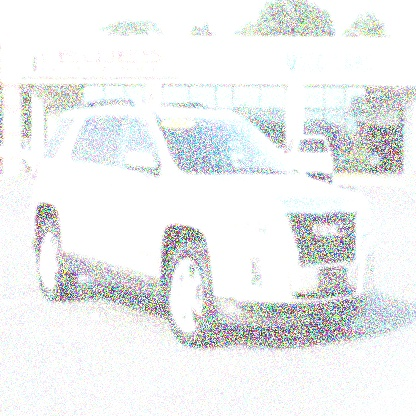Vehicle: (26, 133, 390, 345)
